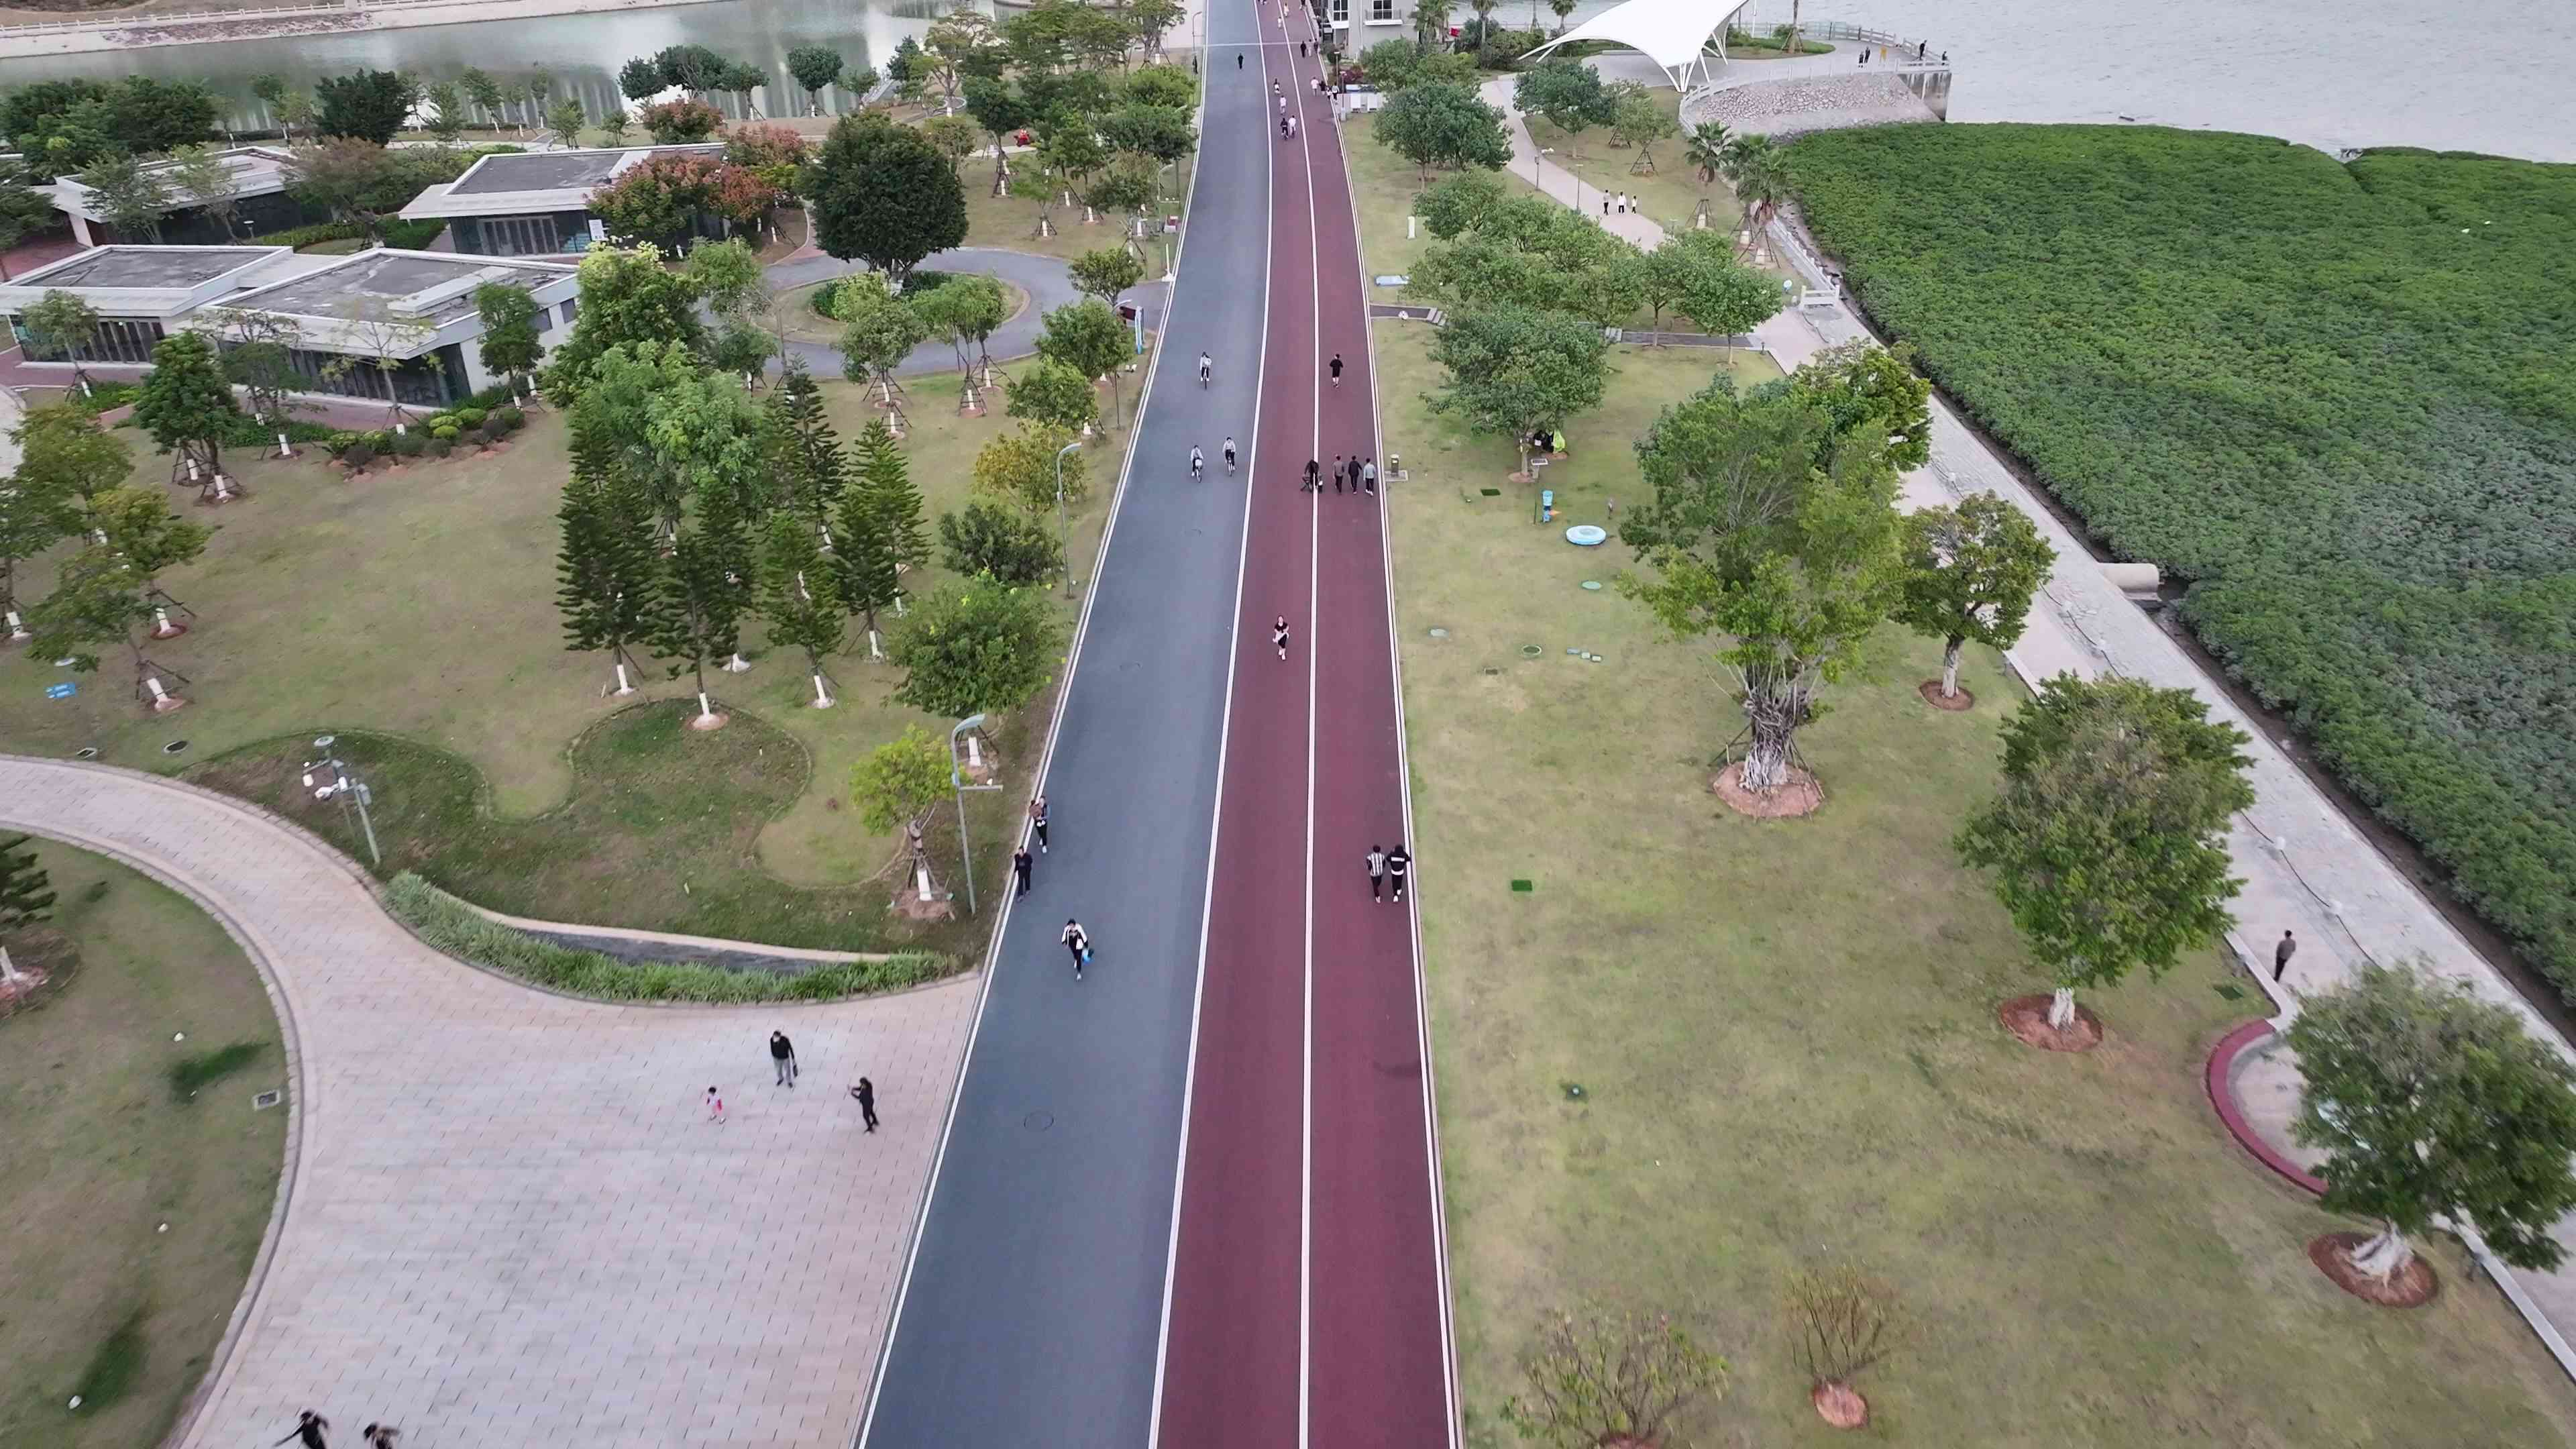person: (1937, 48, 1949, 63)
